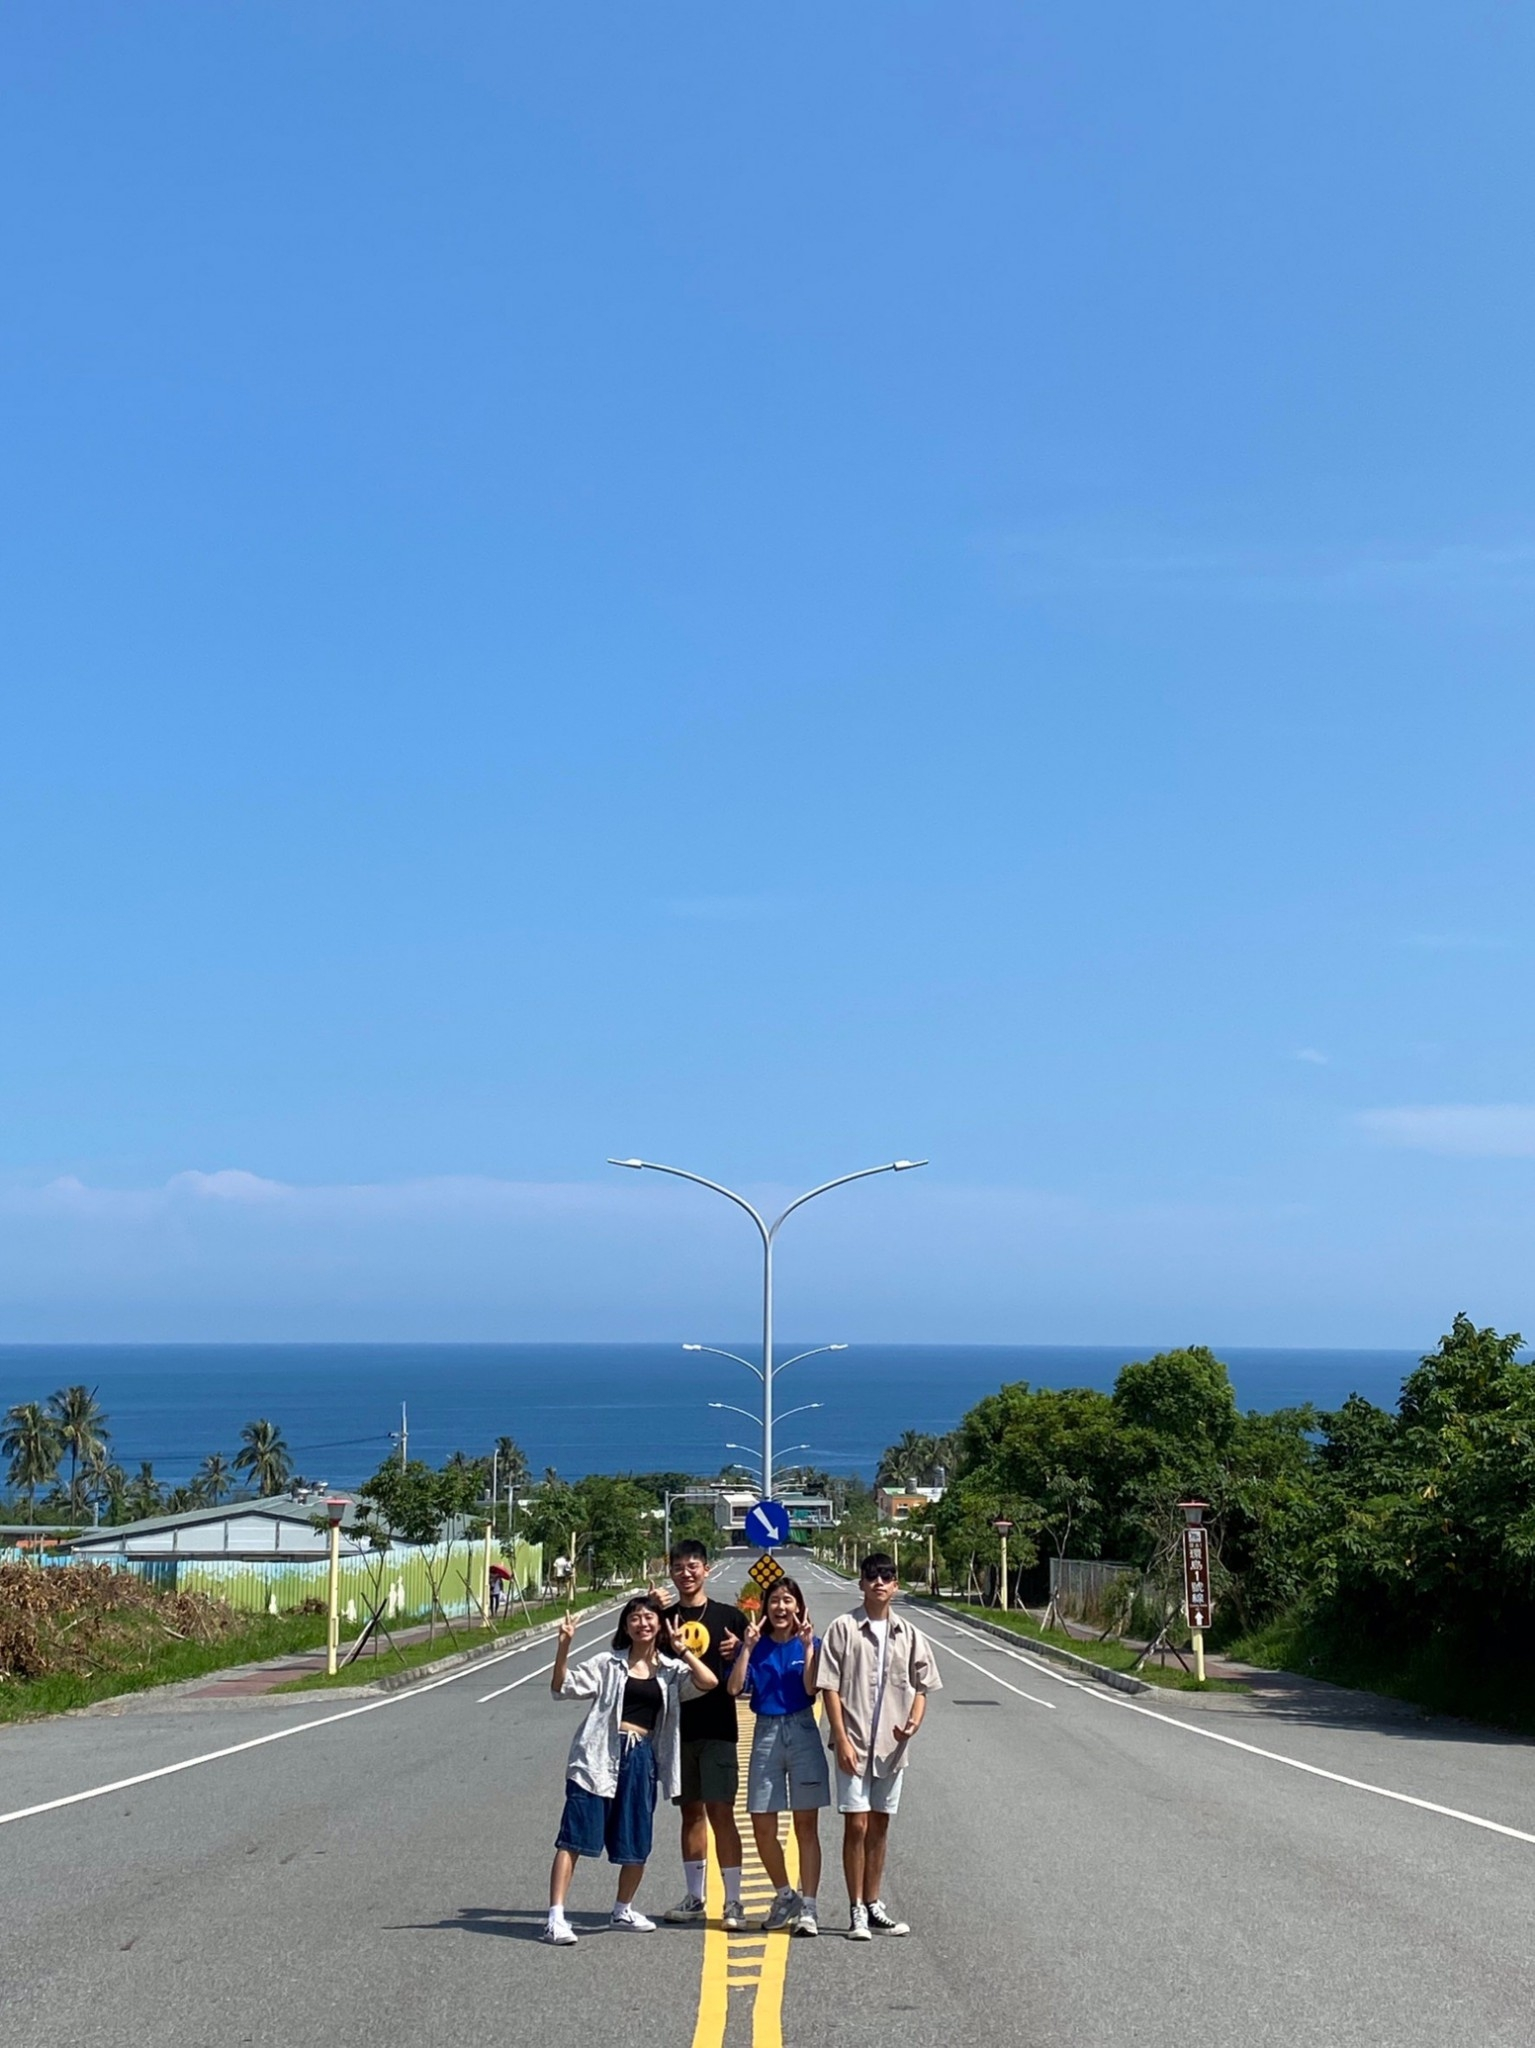people: (836, 1551, 936, 1947), (659, 1538, 749, 1938), (739, 1576, 826, 1951), (581, 1596, 662, 1947)
